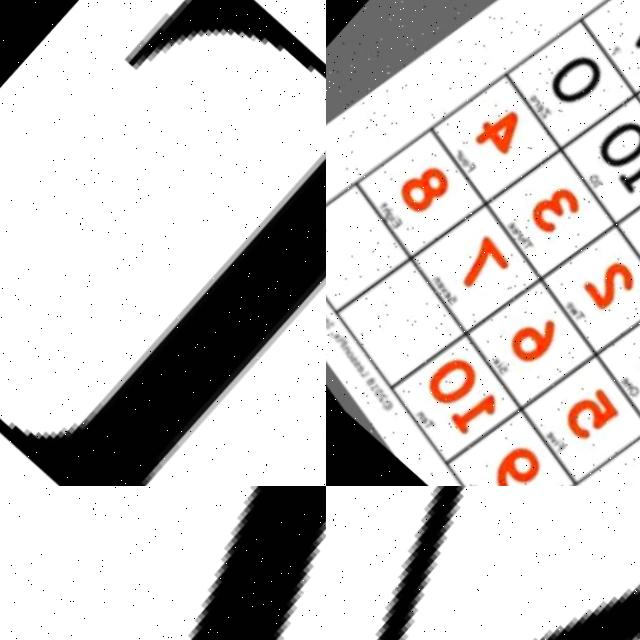0: (413, 335, 496, 418), (537, 32, 619, 116), (584, 97, 640, 177)
1: (444, 370, 515, 444), (608, 130, 640, 204)
2: (570, 237, 640, 321)
3: (518, 169, 593, 246)
4: (457, 84, 544, 172)
5: (554, 366, 637, 451)
6: (497, 294, 580, 377)
7: (442, 218, 526, 303), (615, 0, 640, 61)
8: (386, 144, 470, 229)
9: (478, 424, 562, 486)
I: (188, 486, 326, 640)
T: (0, 0, 326, 486)
V: (326, 486, 640, 640)
